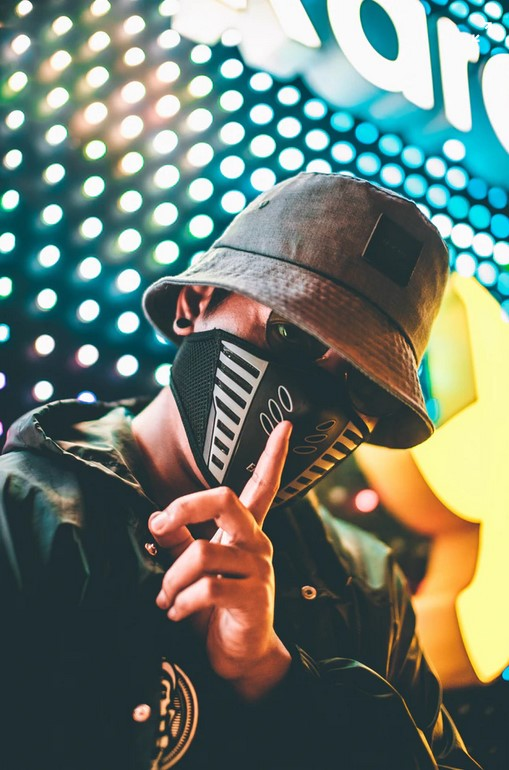face_with_mask: (147, 171, 446, 513)
